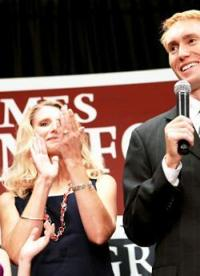person: (1, 100, 118, 275)
